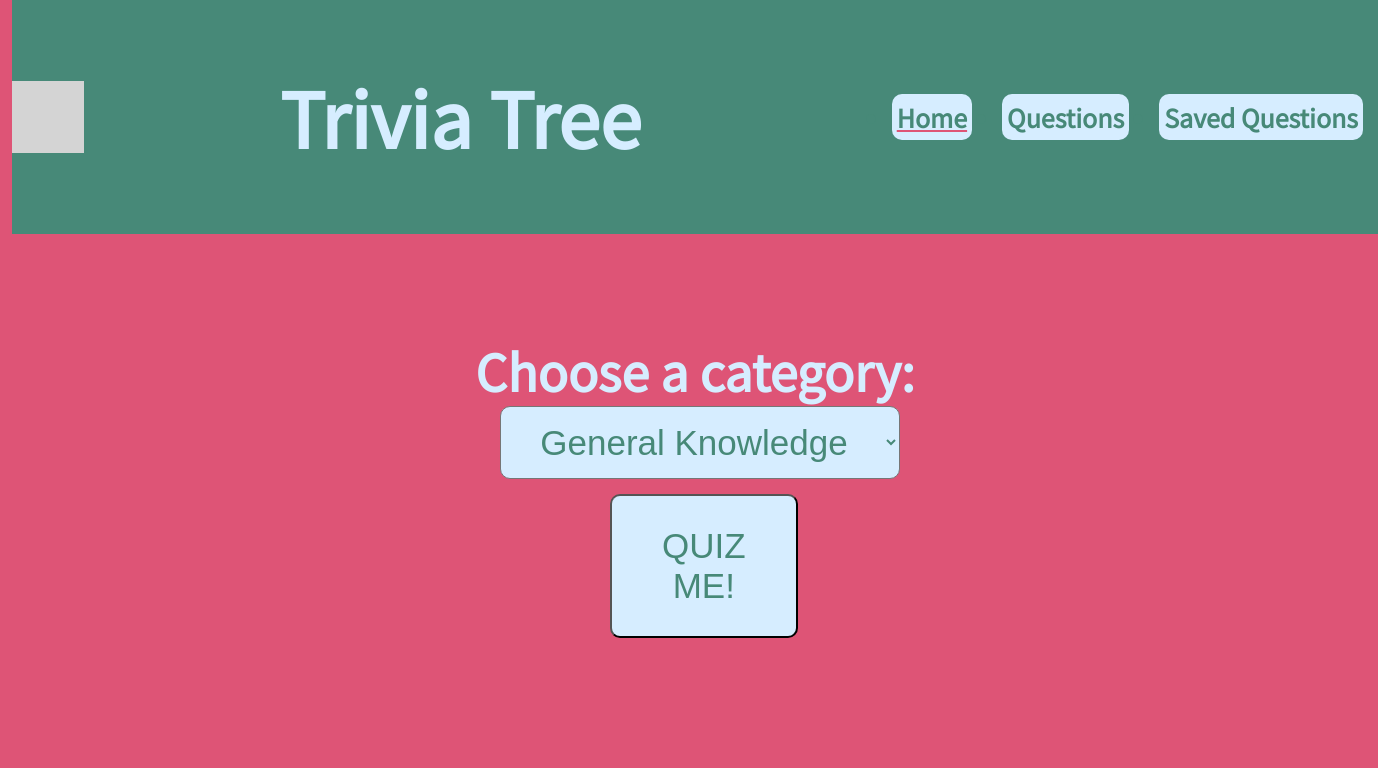
Test case: Form › Should fetch questions based on user input choice for a category
Expected: the label "Choose a category:" is shown, [475,334,915,406]
Select "Geography" in the dropdown at (700, 443), box [500,406,900,479]
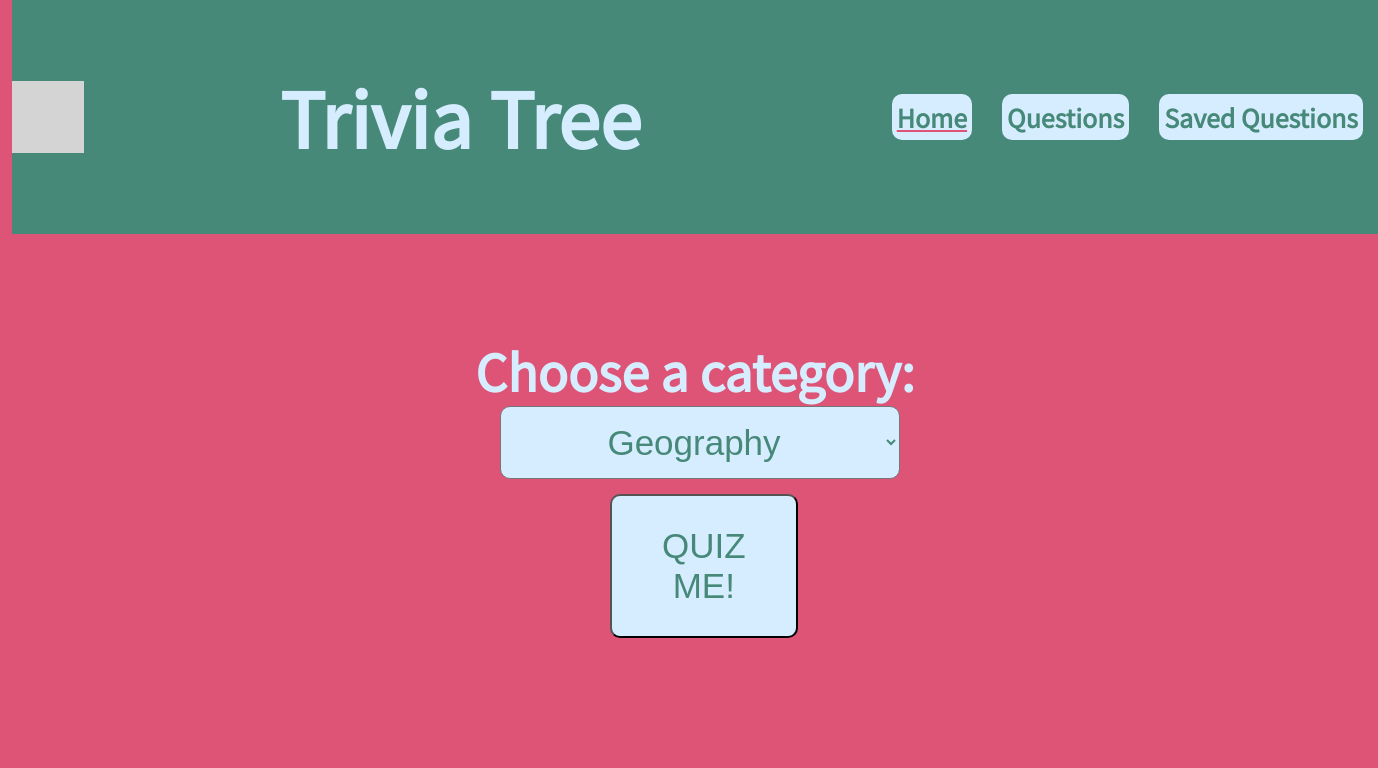
Click the button "QUIZ ME!" at (704, 566), box [610,494,798,638]
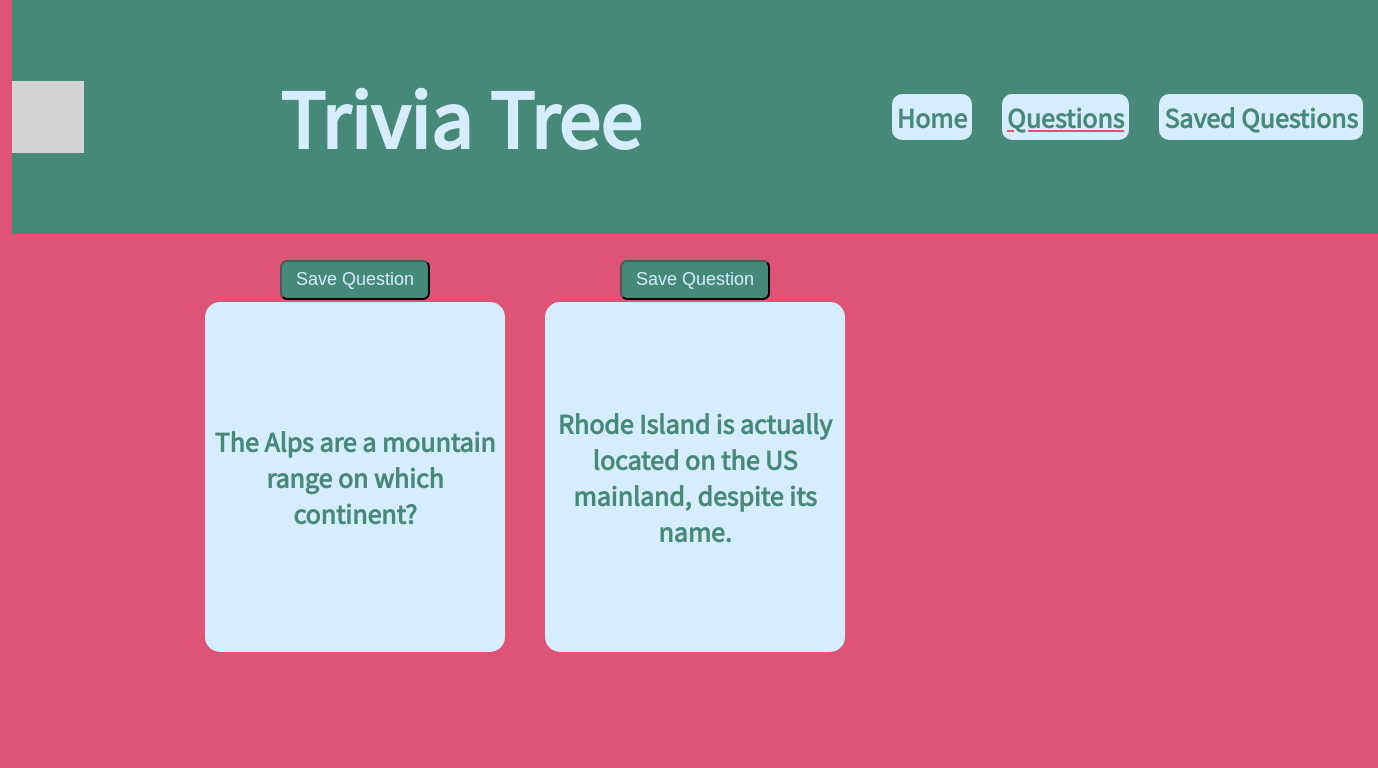
Result: the element that starts with "Save Question" is shown at [12,258,1377,608]
Result: the number of elements with class "flip-card" is 2 at [205,258,505,608]; [545,258,845,608]
Result: the 1st button "Save Question" is shown at [280,260,430,300]
